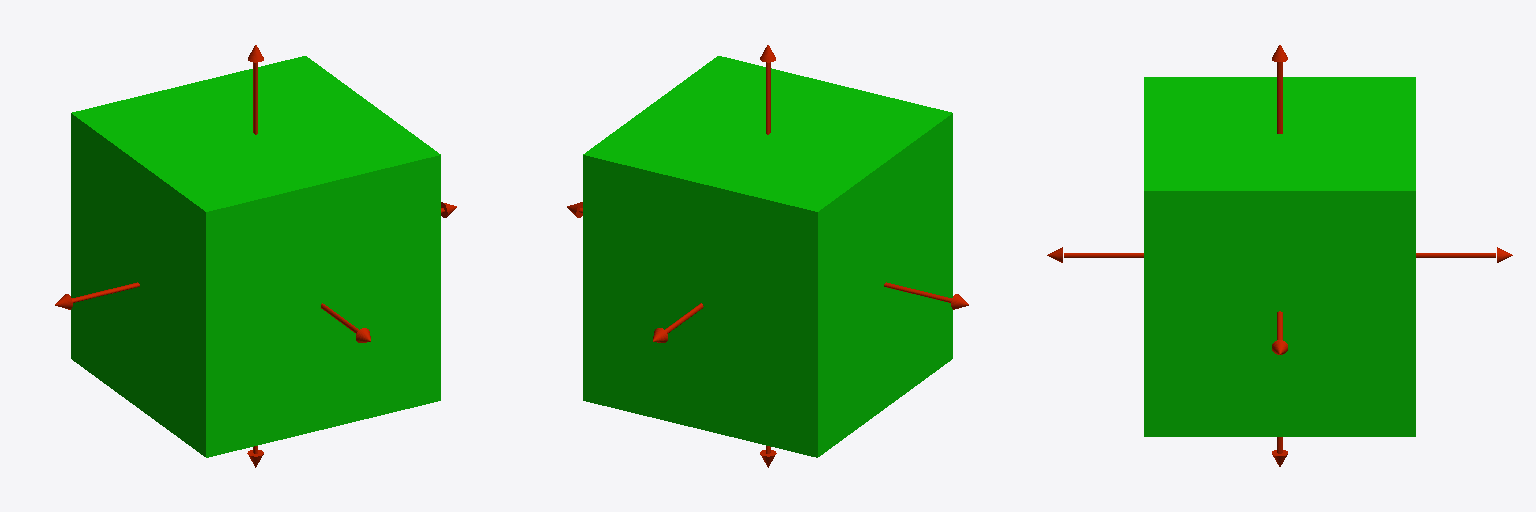
The model's file is cuboda.obj.
3 renders of one model, left to right at view 1: azimuth 30°, elevation 25°; view 2: azimuth 150°, elevation 25°; view 3: azimuth 270°, elevation 25°, orthographic.
Parts seen in each view (by area): view 1: Cube.005_Cube.018; view 2: Cube.005_Cube.018; view 3: Cube.005_Cube.018.
Part boxes in pixels (left/top/right/bottom): Cube.005_Cube.018: left=55, top=45, right=456, bottom=467; Cube.005_Cube.018: left=567, top=45, right=968, bottom=467; Cube.005_Cube.018: left=1047, top=45, right=1512, bottom=466.
Bounding box in the file's own units: 10.93 × 10.98 × 10.94.